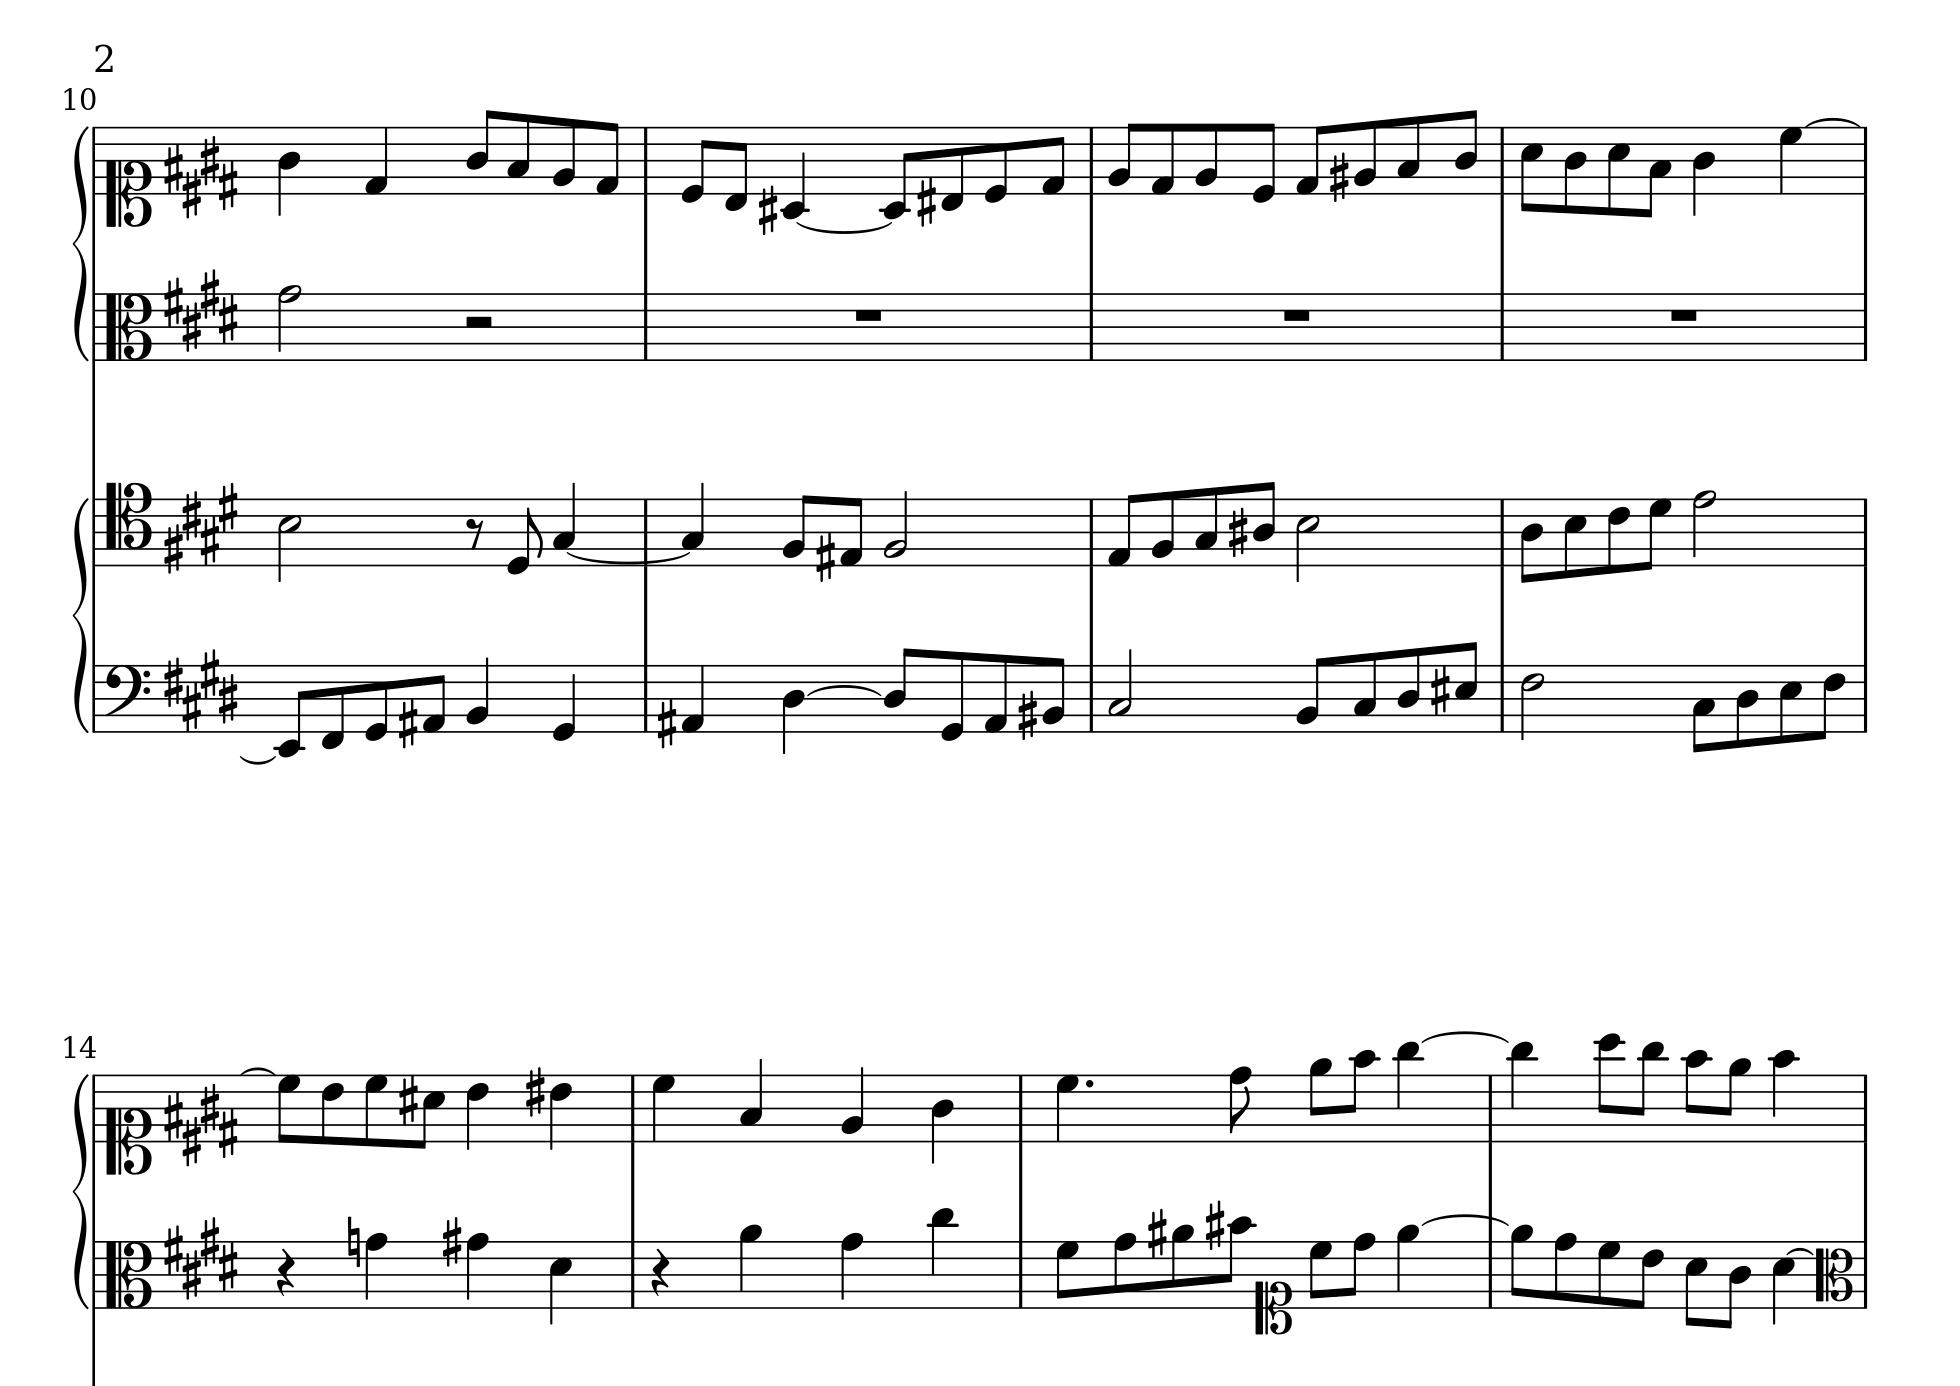0: (79, 85, 96, 112)
1: (61, 85, 76, 112), (61, 1033, 76, 1060)
2: (91, 42, 114, 72)
2_2: (1107, 646, 1134, 730), (882, 487, 909, 565)
2_5: (1294, 496, 1320, 582), (276, 496, 301, 580)
2_6: (1519, 663, 1545, 739)
2_7: (274, 282, 301, 357)
2_8: (1692, 487, 1716, 568)
4: (79, 1033, 97, 1060)
4_-2: (781, 124, 807, 220)
4_0: (550, 663, 577, 742)
4_1: (363, 124, 388, 196), (679, 663, 705, 733)
4_10: (1770, 1047, 1797, 1144)
4_11: (927, 1204, 958, 1309), (1509, 1039, 1534, 1144)
4_2: (463, 655, 490, 733), (840, 1063, 865, 1143)
4_3: (550, 481, 577, 565), (679, 481, 705, 565), (739, 1056, 763, 1143)
4_4: (928, 1072, 955, 1165), (1692, 124, 1716, 217), (277, 124, 301, 214), (781, 664, 805, 754)
4_5: (1770, 1239, 1797, 1324), (547, 1239, 573, 1327)
4_6: (463, 1072, 489, 1152), (547, 1072, 571, 1152)
4_7: (1054, 1072, 1080, 1144), (649, 1072, 675, 1143), (1779, 124, 1803, 195)
4_8: (463, 1228, 490, 1309), (838, 1230, 865, 1309), (363, 1228, 388, 1311)
4_9: (736, 1221, 763, 1309), (1395, 1222, 1419, 1309)
8_-1: (723, 124, 750, 213), (319, 663, 346, 750), (940, 124, 966, 214)
8_-2: (879, 124, 913, 220), (274, 663, 307, 757)
8_0: (507, 496, 541, 576), (679, 124, 711, 205), (939, 649, 966, 744), (1251, 121, 1278, 205), (984, 124, 1011, 204), (363, 661, 388, 742)
8_1: (1293, 123, 1329, 196), (1107, 490, 1141, 567), (982, 651, 1009, 735), (1149, 120, 1176, 196), (594, 118, 619, 196), (1041, 124, 1068, 196), (421, 661, 447, 735), (838, 495, 864, 567)
8_10: (1222, 1213, 1255, 1308), (1345, 1047, 1377, 1143), (1684, 1047, 1710, 1141)
8_11: (1635, 1038, 1666, 1141), (1395, 1038, 1422, 1144)
8_12: (1596, 1029, 1624, 1141)
8_2: (1296, 655, 1329, 733), (1107, 120, 1140, 195), (781, 492, 813, 565), (550, 115, 577, 196), (1149, 489, 1176, 567), (1041, 655, 1068, 733), (1194, 121, 1219, 196), (1353, 118, 1377, 196)
8_3: (1642, 124, 1672, 220), (1690, 663, 1716, 754), (1351, 649, 1378, 735), (1194, 484, 1221, 568), (505, 111, 531, 196), (1396, 114, 1422, 196)
8_4: (882, 646, 916, 733), (465, 108, 498, 196), (1722, 1239, 1752, 1329), (1395, 646, 1422, 733), (1563, 124, 1588, 216), (1453, 108, 1479, 196), (1251, 478, 1276, 565), (1519, 496, 1545, 583), (1735, 663, 1761, 748)
8_5: (1605, 124, 1632, 217), (1683, 1237, 1710, 1327), (1453, 639, 1479, 733), (415, 1072, 445, 1150), (1519, 124, 1545, 213), (1777, 661, 1803, 744), (1563, 496, 1587, 579)
8_6: (1816, 663, 1848, 739), (1633, 1239, 1665, 1309), (1606, 496, 1632, 574), (319, 1072, 345, 1146)
8_7: (1641, 496, 1671, 570), (361, 1072, 388, 1147), (1054, 1237, 1080, 1309), (1308, 1237, 1333, 1309), (276, 1072, 300, 1144), (1597, 1237, 1621, 1309)
8_8: (1344, 1231, 1377, 1309), (1227, 1063, 1254, 1143), (1113, 1228, 1138, 1309), (1554, 1230, 1578, 1311)
8_9: (1722, 1056, 1752, 1143), (1170, 1221, 1195, 1309), (1509, 1222, 1534, 1309), (1308, 1056, 1332, 1141)
Brace: (70, 493, 90, 733), (70, 123, 90, 361), (70, 1074, 90, 1306)
Cclef: (103, 291, 151, 361), (103, 1239, 151, 1309), (1813, 1239, 1855, 1309)
E_S: (160, 481, 241, 573), (160, 646, 241, 732), (163, 132, 238, 220), (163, 267, 238, 352), (163, 1215, 238, 1300), (162, 1083, 238, 1165)
Fclef: (102, 661, 150, 733)
Natural: (345, 1215, 361, 1270)
Rests1: (1279, 304, 1314, 324), (850, 304, 886, 322), (1666, 304, 1701, 322)
Rests2: (462, 313, 496, 330)
Rests4: (271, 1246, 298, 1300), (648, 1246, 673, 1300)
Rests8: (463, 514, 484, 550)
Sharp: (1144, 1204, 1170, 1258), (439, 1213, 463, 1269), (654, 697, 678, 750), (1203, 1197, 1227, 1249), (1227, 505, 1249, 559), (396, 1072, 418, 1126), (915, 175, 937, 228), (396, 697, 418, 748), (1429, 664, 1452, 715), (1017, 688, 1038, 742), (757, 183, 778, 235), (1329, 151, 1350, 204), (523, 1065, 544, 1117), (814, 531, 835, 582)
Single_barline: (1857, 124, 1875, 193), (1083, 126, 1101, 195), (1482, 1239, 1500, 1308), (1482, 1074, 1500, 1140), (637, 126, 654, 195), (1857, 1240, 1873, 1308), (1494, 127, 1510, 193), (1084, 499, 1101, 565), (625, 1074, 642, 1140), (1012, 1240, 1029, 1306), (637, 498, 654, 562), (1012, 1075, 1029, 1140), (1084, 292, 1099, 361), (1857, 292, 1872, 361), (637, 663, 652, 732), (637, 292, 652, 360), (1857, 498, 1872, 565), (1084, 664, 1099, 732), (1857, 1072, 1872, 1140), (1494, 499, 1509, 565), (1495, 664, 1510, 730), (625, 1240, 640, 1306), (88, 291, 102, 363), (1495, 292, 1509, 361), (88, 496, 102, 565), (1858, 664, 1872, 733), (88, 664, 102, 732), (88, 1074, 102, 1141), (88, 1239, 100, 1308), (88, 127, 100, 193)
Slur: (565, 550, 691, 564), (1422, 1029, 1509, 1042), (1422, 1213, 1509, 1227), (805, 682, 883, 697), (1803, 115, 1863, 127), (238, 751, 277, 766), (240, 1065, 276, 1075), (1785, 1246, 1815, 1255)
Soprano_Cclef: (103, 1072, 151, 1176), (105, 124, 150, 226), (1254, 1240, 1291, 1336)
Tensor_Cclef: (103, 480, 151, 565)
dot: (1083, 1075, 1096, 1090)
